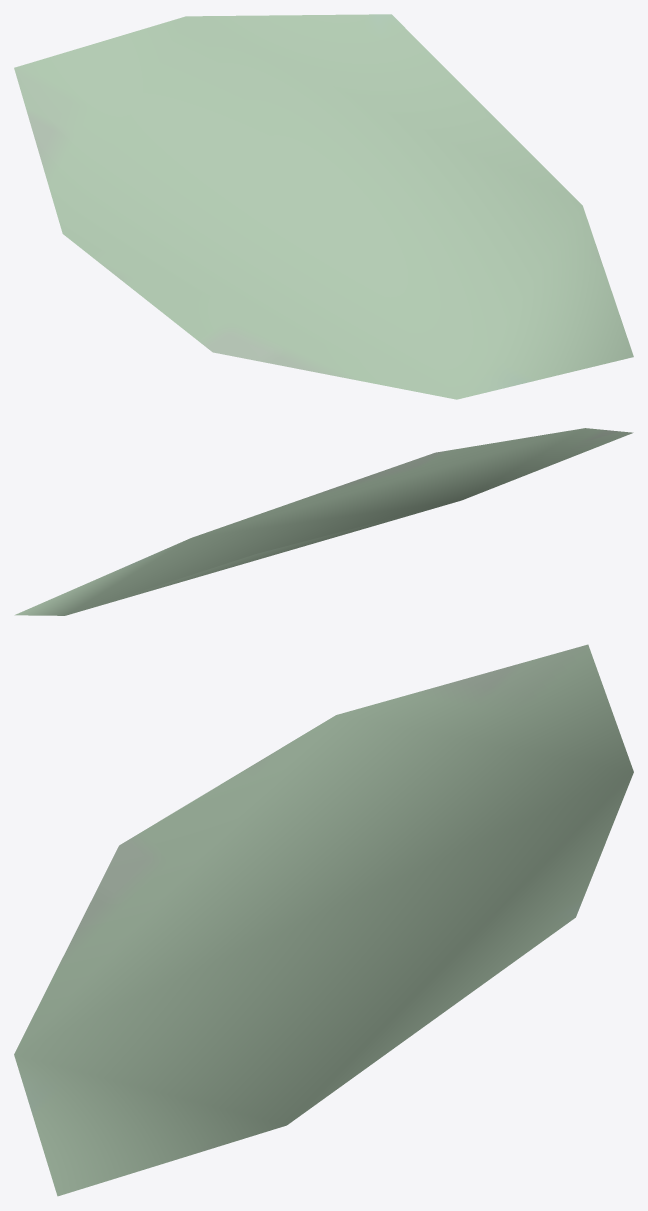
The model's file is TROLLHOLE02_HOLECAP205.fbx.
3 renders of one model, top to bottom at view 1: azimuth 30°, elevation 25°; view 2: azimuth 210°, elevation 25°; view 3: azimuth 270°, elevation 25°, orthographic. The views are drawn at different scales.
Visible parts, largest first — view 1: TROLLHOLE02_HOLECAP205; view 2: TROLLHOLE02_HOLECAP205; view 3: TROLLHOLE02_HOLECAP205.
Part boxes in pixels (x1,y1,x2,y2): TROLLHOLE02_HOLECAP205: (14, 14, 633, 399); TROLLHOLE02_HOLECAP205: (14, 428, 633, 615); TROLLHOLE02_HOLECAP205: (14, 644, 633, 1196).
Bounding box in the file's own units: 10379 × 4672 × 8791.
1 material, 1 textured.
